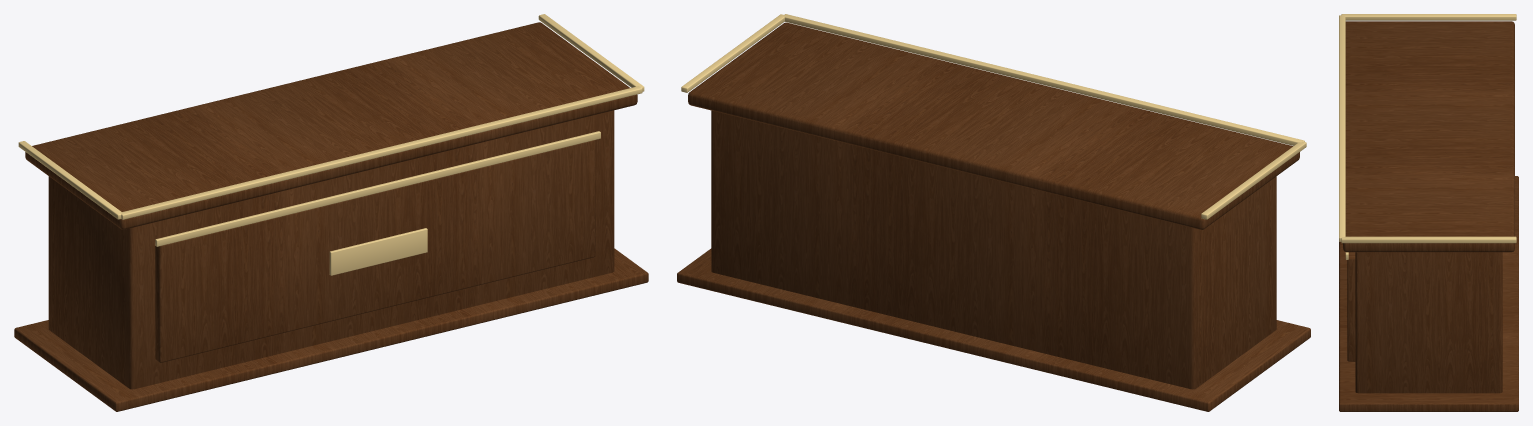
File: bench.glb
3 renders of one model, left to right at view 1: azimuth 30°, elevation 25°; view 2: azimuth 150°, elevation 25°; view 3: azimuth 270°, elevation 25°, orthographic. The views are drawn at different scales.
Parts seen in each view (by area): view 1: Bench_Top, Bench_Panel, Bench_Base, Bench_Plinth, Trim_Front, Trim_Panel, Bench_Plaque, Trim_L, Trim_R; view 2: Bench_Base, Bench_Top, Bench_Plinth, Trim_Front, Trim_L, Trim_R; view 3: Bench_Top, Bench_Base, Bench_Plinth, Trim_Front, Trim_R, Trim_L, Bench_Panel.
Boxes of the visible parts, x1,y1,x2,y2 form: Bench_Top: [25, 22, 637, 229]; Bench_Panel: [155, 140, 595, 362]; Bench_Base: [48, 110, 614, 389]; Bench_Plinth: [14, 248, 648, 411]; Trim_Front: [120, 86, 642, 219]; Trim_Panel: [155, 131, 600, 246]; Bench_Plaque: [329, 228, 427, 275]; Trim_L: [18, 141, 121, 219]; Trim_R: [538, 14, 644, 91]; Bench_Base: [711, 110, 1276, 389]; Bench_Top: [688, 22, 1299, 229]; Bench_Plinth: [677, 248, 1310, 411]; Trim_Front: [783, 14, 1304, 145]; Trim_L: [1201, 141, 1306, 219]; Trim_R: [681, 14, 784, 92]; Bench_Top: [1343, 21, 1514, 252]; Bench_Base: [1355, 252, 1502, 393]; Bench_Plinth: [1339, 176, 1518, 411]; Trim_Front: [1339, 15, 1345, 241]; Trim_R: [1341, 236, 1516, 243]; Trim_L: [1341, 14, 1516, 20]; Bench_Panel: [1347, 252, 1355, 361].
Bounding box in the file's own units: 3.3 × 1.16 × 1.1.
Materials: 2 (1 with a texture image).
